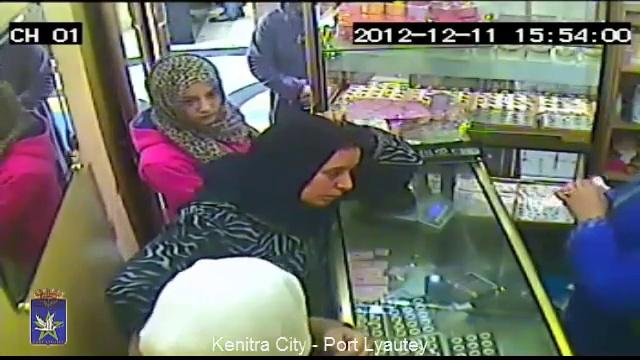Customer-Bagpack: (334, 107, 418, 184)
Regular: (102, 229, 319, 360), (552, 122, 640, 344), (144, 28, 256, 177), (213, 91, 344, 213)
